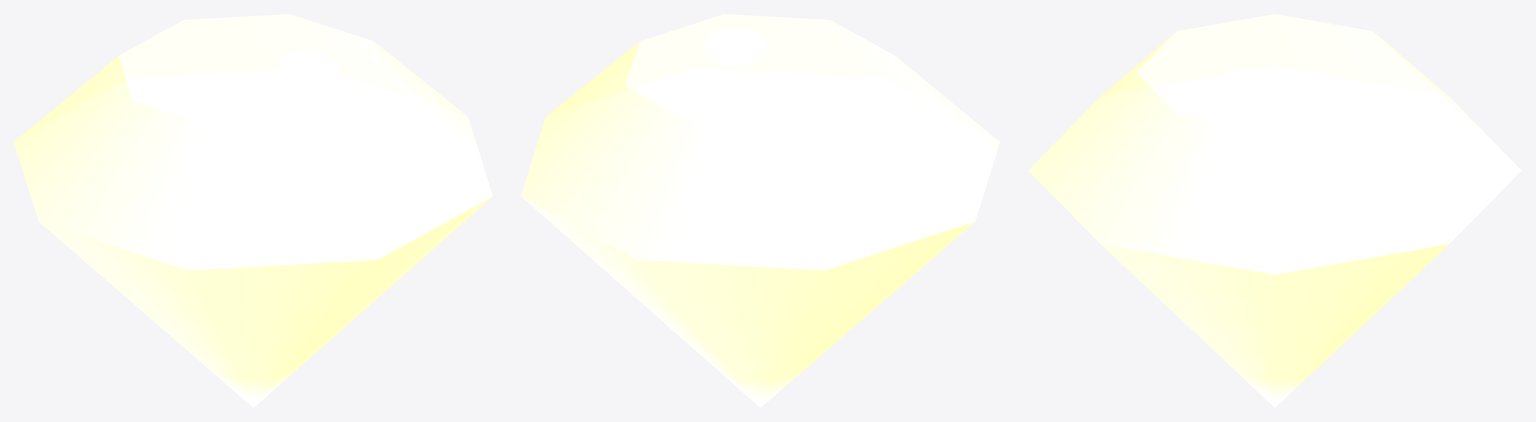
Rendered from diamante.glb.
3 renders of one model, left to right at view 1: azimuth 30°, elevation 25°; view 2: azimuth 150°, elevation 25°; view 3: azimuth 270°, elevation 25°, orthographic.
Visible parts, largest first — view 1: diamante; view 2: diamante; view 3: diamante.
Part boxes in pixels (x1,y1,x2,y2): diamante: (14,14,492,407); diamante: (521,14,999,407); diamante: (1028,14,1521,407).
Size of the model in its own units: 0.32 by 0.252 by 0.32.
